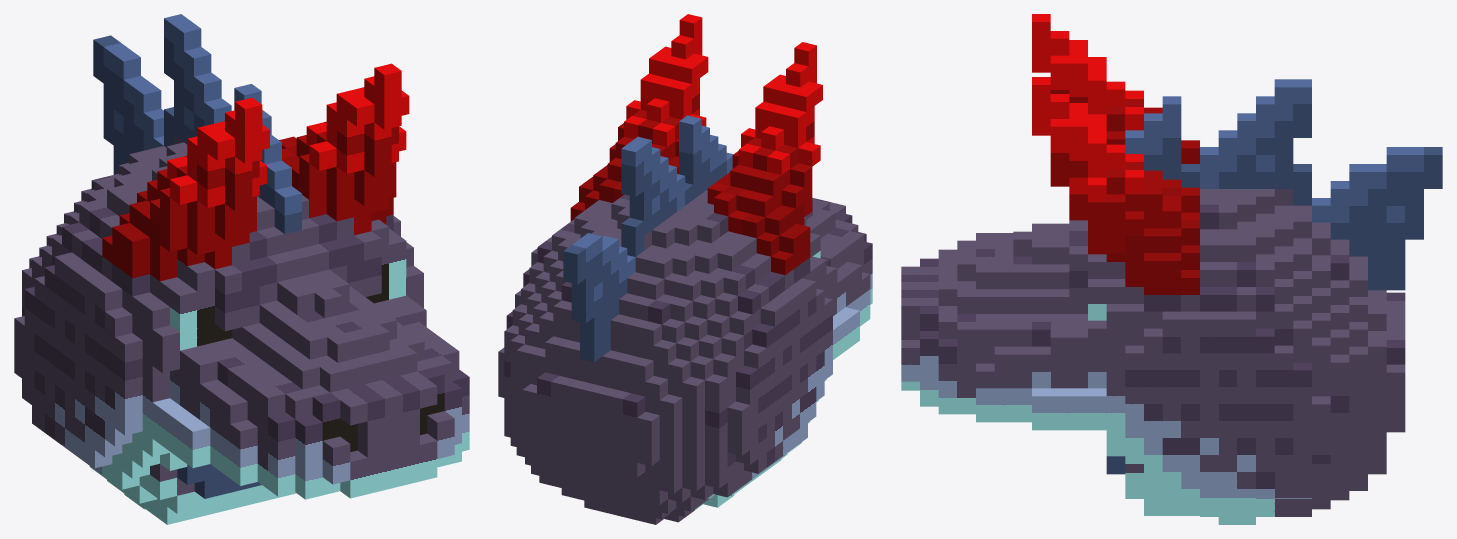
File: devil horns.gltf
3 views of the same model, side by side, from view 1: azimuth 30°, elevation 25°; view 2: azimuth 150°, elevation 25°; view 3: azimuth 270°, elevation 25° (orthographic). The views are drawn at different scales.
Parts seen in each view (by area): view 1: 18_Zilla_Head_Devil_Horn-Mesh; view 2: 18_Zilla_Head_Devil_Horn-Mesh; view 3: 18_Zilla_Head_Devil_Horn-Mesh.
Part boxes in pixels (x1,y1,x2,y2): 18_Zilla_Head_Devil_Horn-Mesh: (14,14,469,524); 18_Zilla_Head_Devil_Horn-Mesh: (498,14,872,524); 18_Zilla_Head_Devil_Horn-Mesh: (901,14,1442,524).
Bounding box in the file's own units: 17 × 26 × 29.
1 material, 1 textured.
